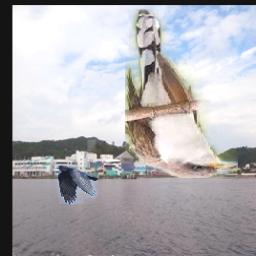Crow: (54, 166, 98, 205)
Cuckoo: (125, 9, 238, 178)
